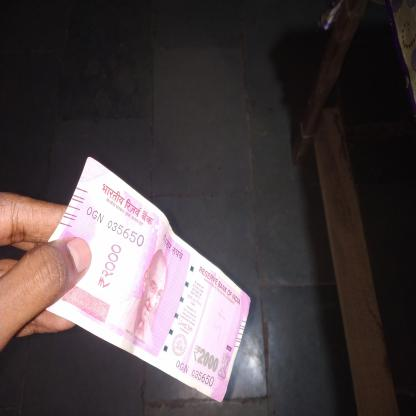New2000Front: (35, 160, 252, 402)
